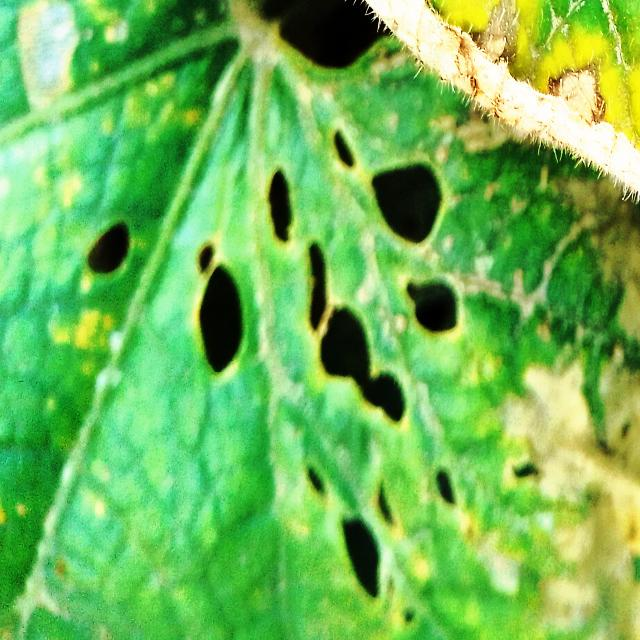Anthracnose: (303, 235, 409, 439), (190, 237, 252, 381), (369, 156, 449, 250), (399, 264, 472, 334), (340, 511, 384, 605), (82, 214, 134, 282), (261, 161, 298, 248), (333, 120, 360, 172)
